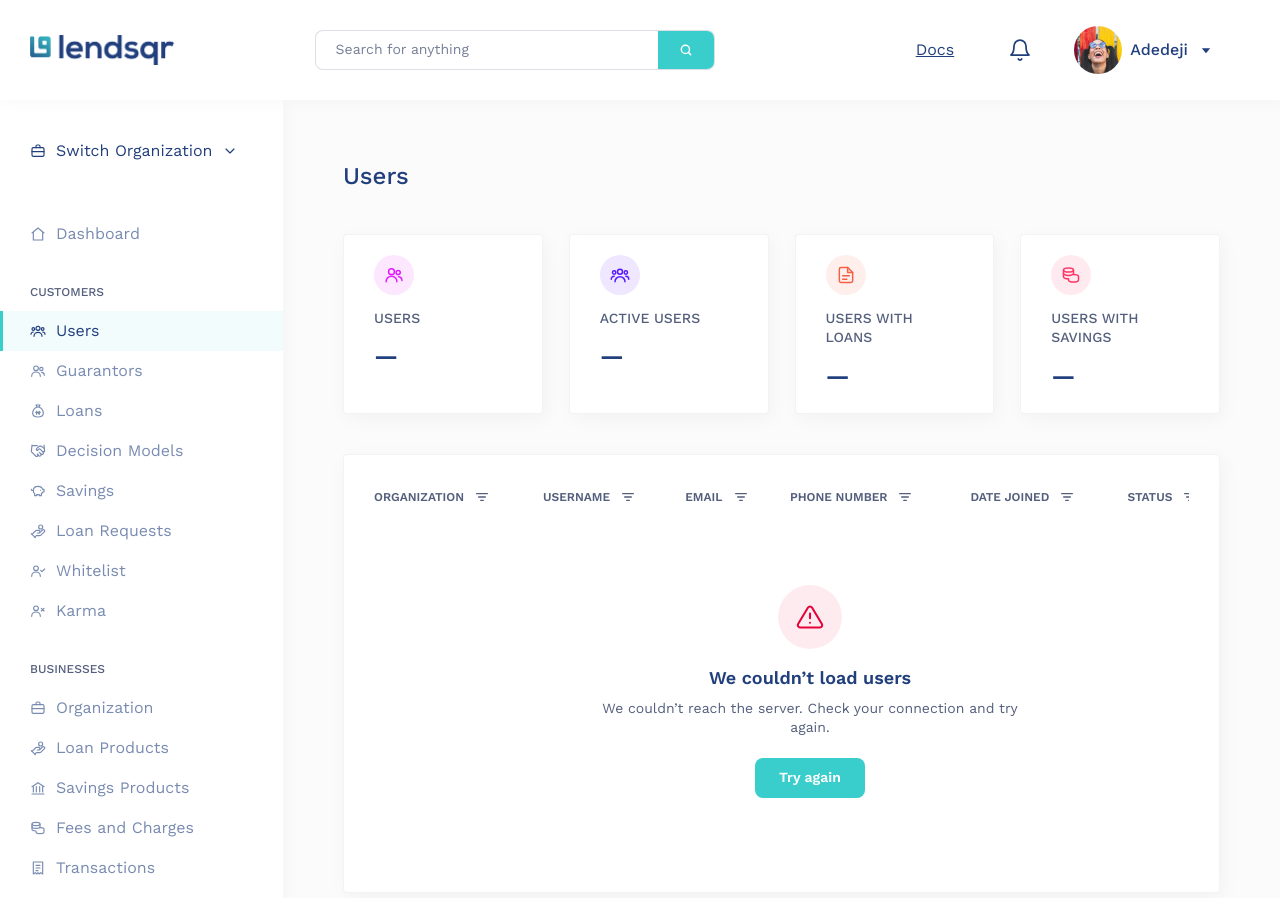
Test: UsersPage › shows an error state and recovers on retry
Check: the heading "We couldn’t load users" is shown, box [709,665,911,691]
Check: the message shows "couldn’t reach the server", box [602,700,1018,735]
Click the button "Try again" at (810, 778), box [755,758,865,798]
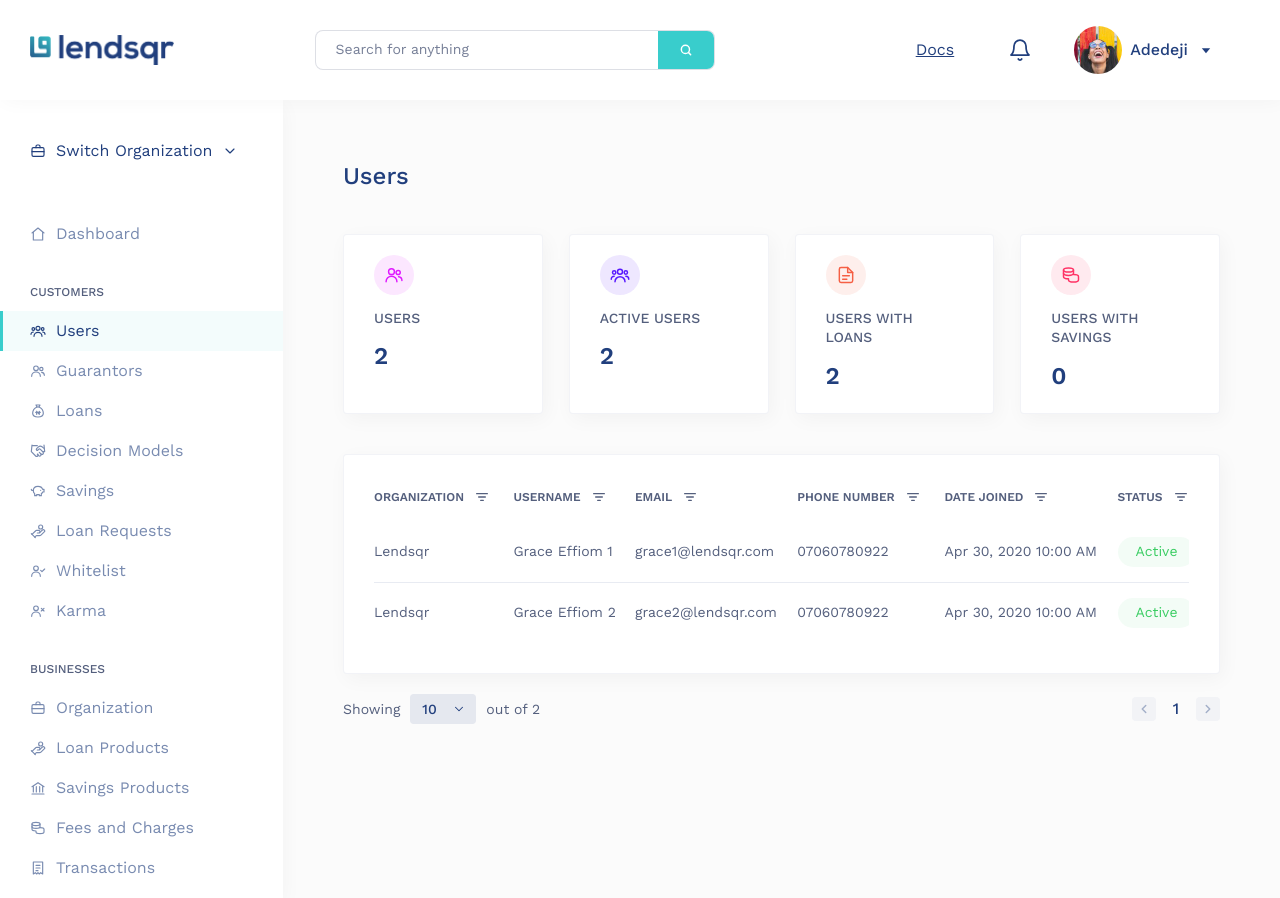
Check: the link "Grace Effiom 1" is shown, box [513,543,613,559]
